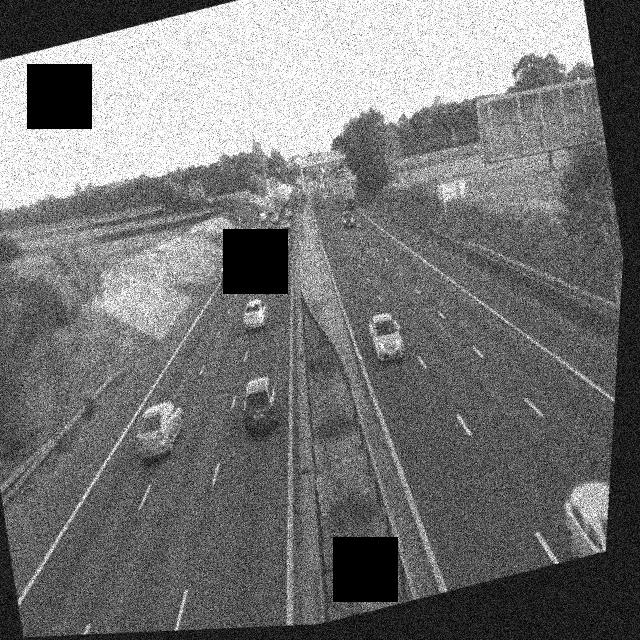car: (554, 466, 611, 560), (127, 398, 191, 464), (236, 373, 285, 433), (363, 309, 407, 364), (239, 296, 271, 330), (266, 247, 289, 277), (217, 263, 237, 287), (246, 255, 265, 278), (273, 232, 290, 251), (340, 208, 355, 229), (254, 234, 267, 250), (278, 218, 291, 233)
truck: (335, 172, 360, 213), (261, 190, 280, 216), (276, 184, 294, 207)
